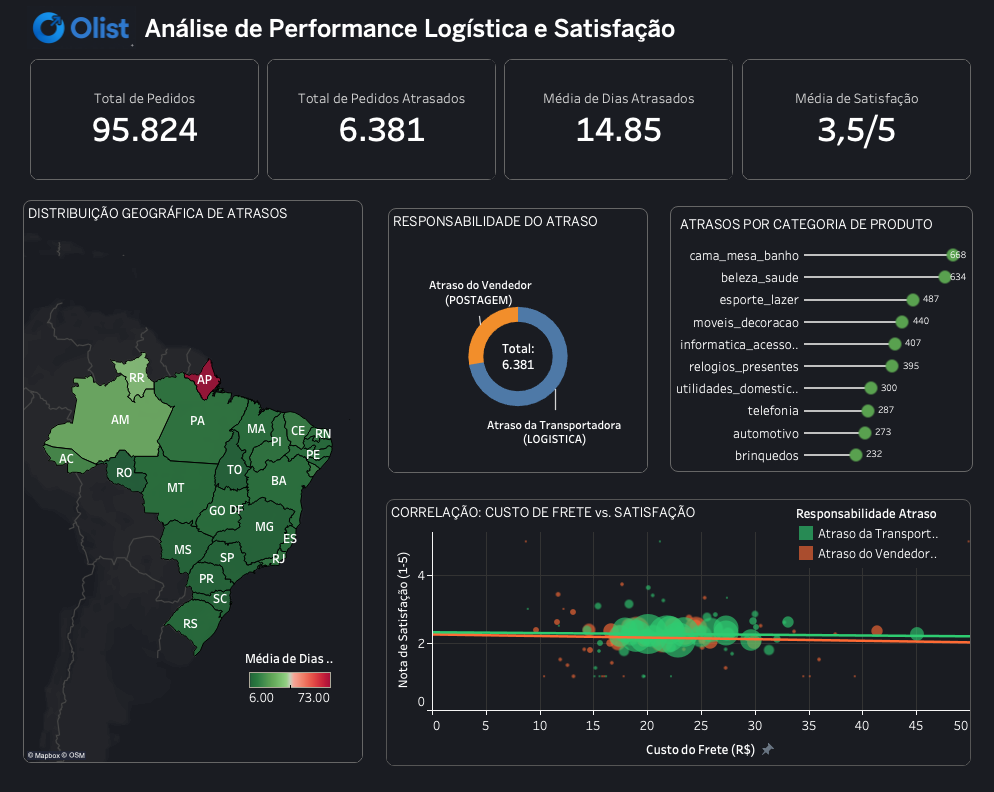

Layout of this report page (visuals, bound fields, positions):
{"tool":"tableau","page":{"name":"Dashboard 1","canvas":[1000,800],"ordinal":0},"visuals":[{"type":"image","param":"/Users/josepaulodasilva/Downloads/Gemini_Generated_Image_iya786iya786iya7.png","box":[30,8,109,47]},{"type":"text","box":[145,8,588,45]},{"type":"worksheet","title":"total_orders","mark":"Automatic","box":[29,57,237.2,129]},{"type":"worksheet","title":"delayed_orders","mark":"Automatic","box":[266.2,57,237.2,129]},{"type":"worksheet","title":"avg_days_late","mark":"Automatic","box":[503.5,57,237.2,129]},{"type":"worksheet","title":"avg_review_score","mark":"Automatic","box":[740.8,57,237.2,129]},{"type":"worksheet","title":"mapa","mark":"Automatic","box":[21,197,350,573]},{"type":"worksheet","title":"responsabilidade","mark":"Pie","rows":["Calculation_4514228684152833","Calculation_4514228684197891"],"box":[386,205,270,275]},{"type":"worksheet","title":"top10","mark":"Automatic","rows":["coalesce"],"cols":["total_orders","total_orders"],"box":[673,208,303,266]},{"type":"worksheet","title":"Sheet 8","mark":"Circle","rows":["avg_review_score"],"cols":["avg_freight_value"],"box":[384,496,595,277]},{"type":"legend","title":"Sheet 8","param":"[federated.0cccbeq1mney4b172qss51bkgikc].[none:responsabilidade_atraso:nk]","box":[799,507,147,63]},{"type":"legend","title":"mapa","param":"[federated.1vvm7m00fibrnz17fsaxi05j0y3q].[avg:avg_days_late:qk]","box":[248,652,90,58]}]}

Visuals, with their boxes in screenshot pixels (x1, y1, x2, y2), scaled from the page's 1000x800 canvas onto the 994x792 screenshot:
image: bbox(30, 8, 138, 54)
text: bbox(144, 8, 729, 52)
"total_orders" worksheet: bbox(29, 56, 265, 184)
"delayed_orders" worksheet: bbox(265, 56, 500, 184)
"avg_days_late" worksheet: bbox(500, 56, 736, 184)
"avg_review_score" worksheet: bbox(736, 56, 972, 184)
"mapa" worksheet: bbox(21, 195, 369, 762)
"responsabilidade" worksheet (Pie marks): bbox(384, 203, 652, 475)
"top10" worksheet: bbox(669, 206, 970, 469)
"Sheet 8" worksheet (Circle marks): bbox(382, 491, 973, 765)
"Sheet 8" legend: bbox(794, 502, 940, 564)
"mapa" legend: bbox(247, 645, 336, 703)
